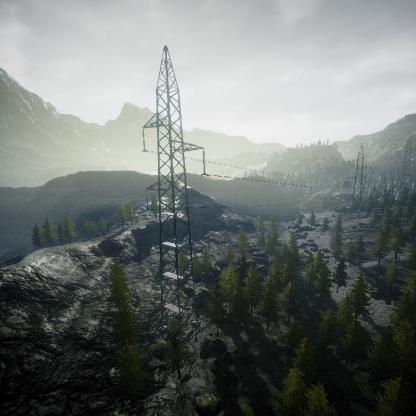tower: (139, 44, 211, 345), (346, 142, 375, 202)
